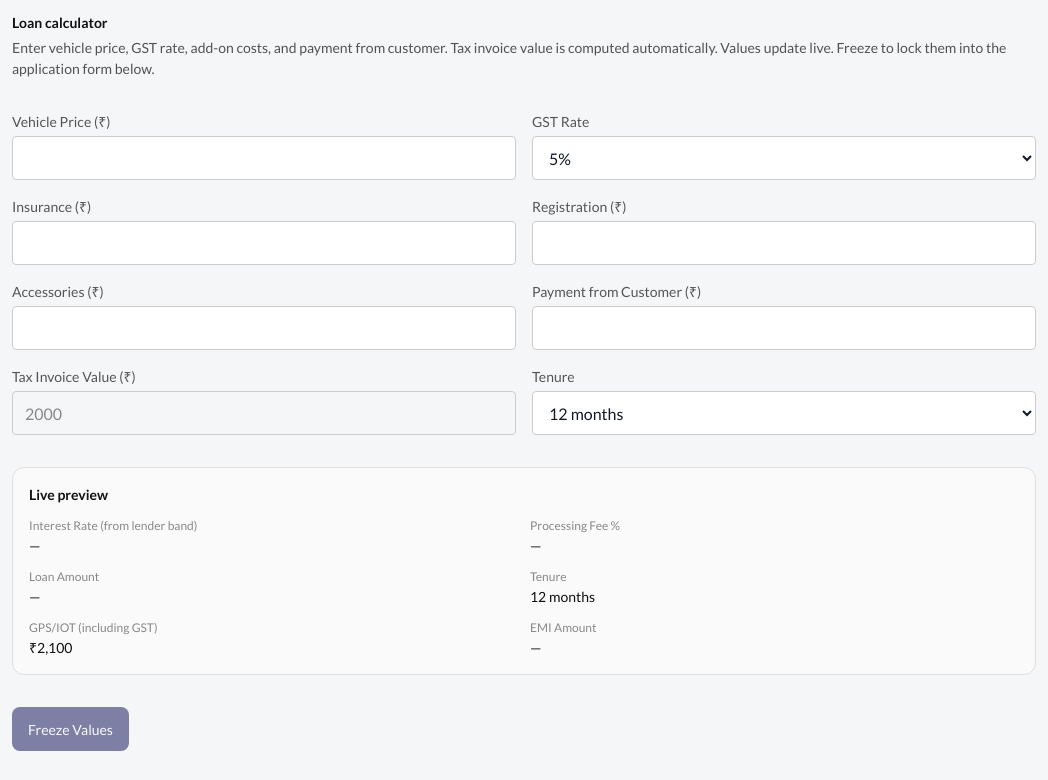
Test case: LoanCalculator › computes tax invoice value from vehicle price, GST, and add-ons
Type "100000" into the field with test id "loan-calc-vehicle-price" at (264, 158), box [12, 136, 516, 180]
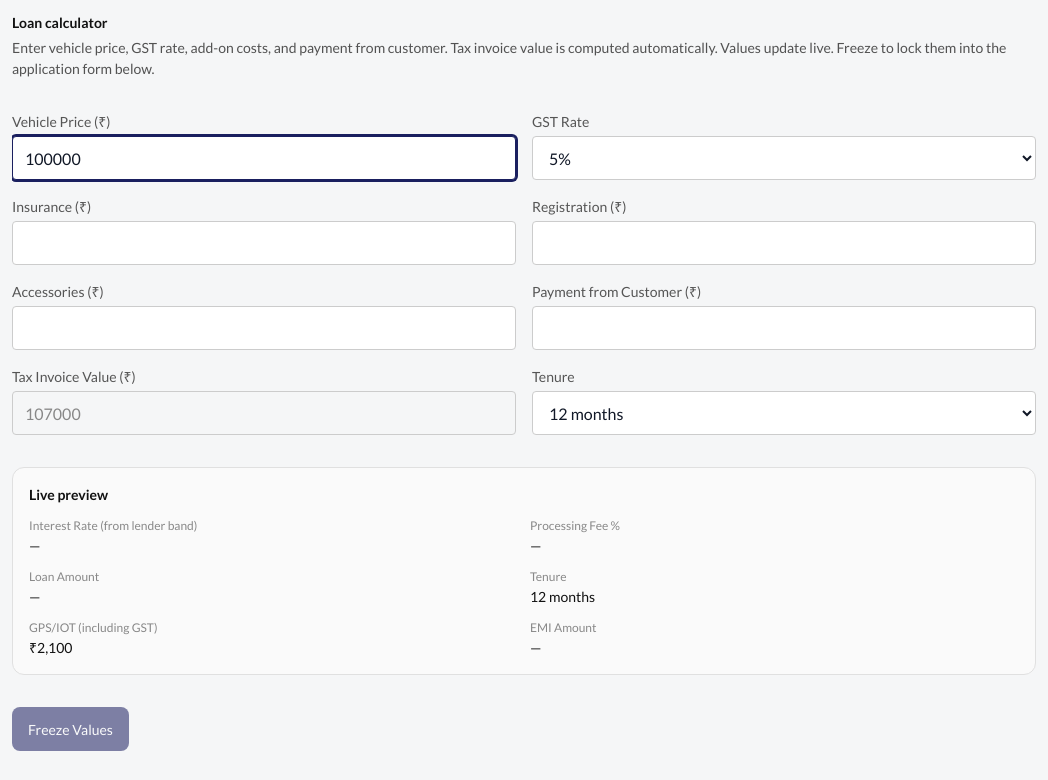
Select "5%" in the dropdown with test id "loan-calc-gst-rate" at (784, 158), box [532, 136, 1036, 180]
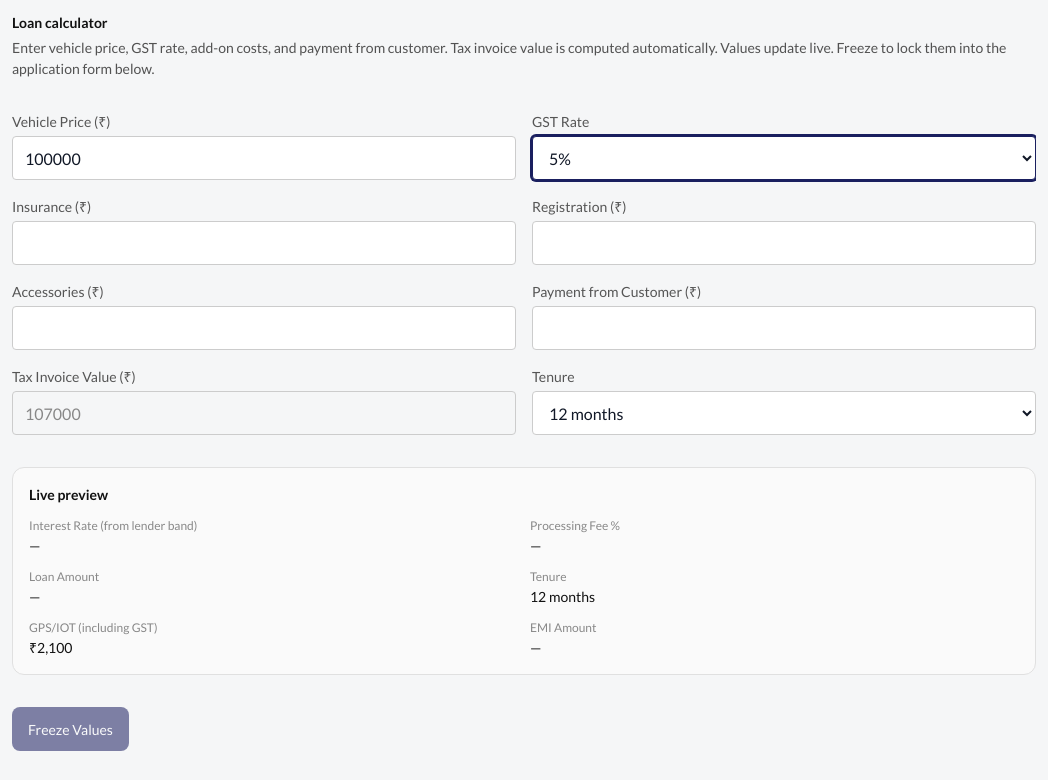
Type "2000" into the field with test id "loan-calc-insurance" at (264, 243), box [12, 221, 516, 265]
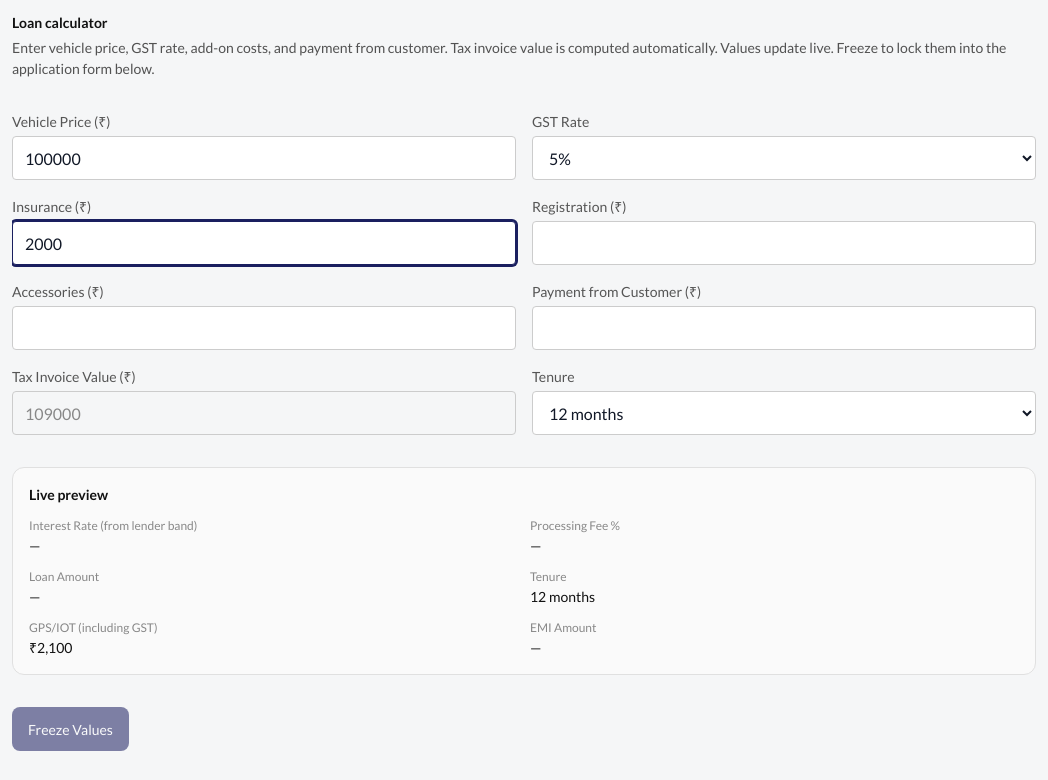
Type "1000" into the field with test id "loan-calc-registration" at (784, 243), box [532, 221, 1036, 265]
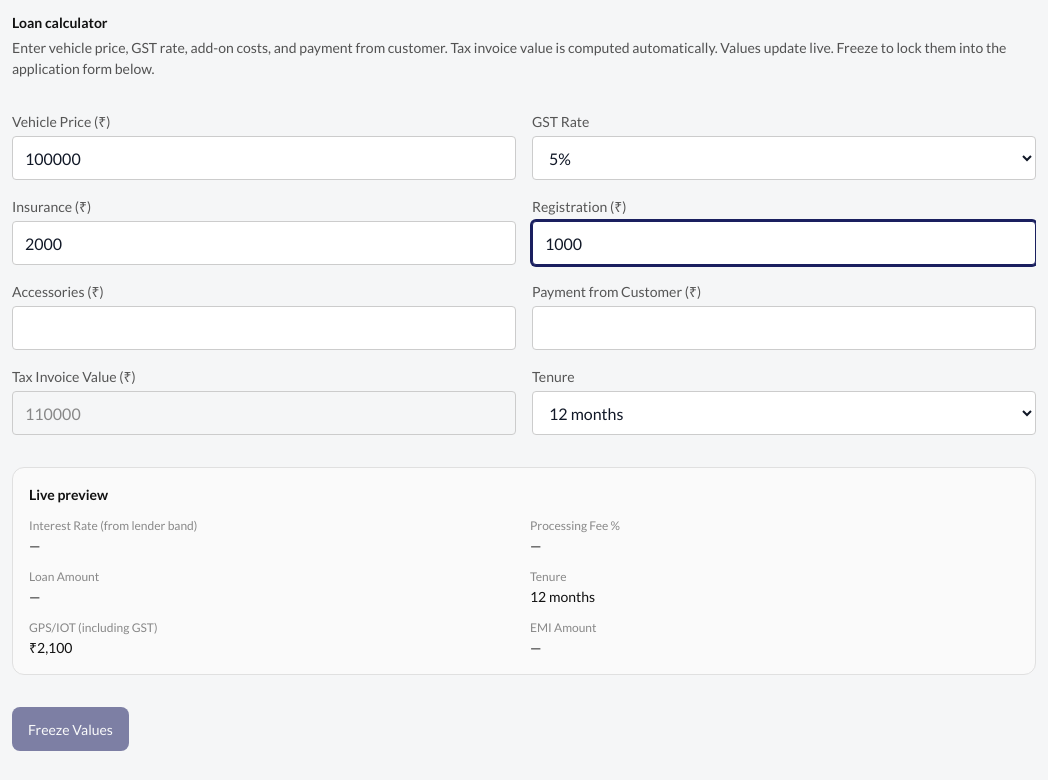
Type "1000" into the field with test id "loan-calc-accessories" at (264, 328), box [12, 306, 516, 350]
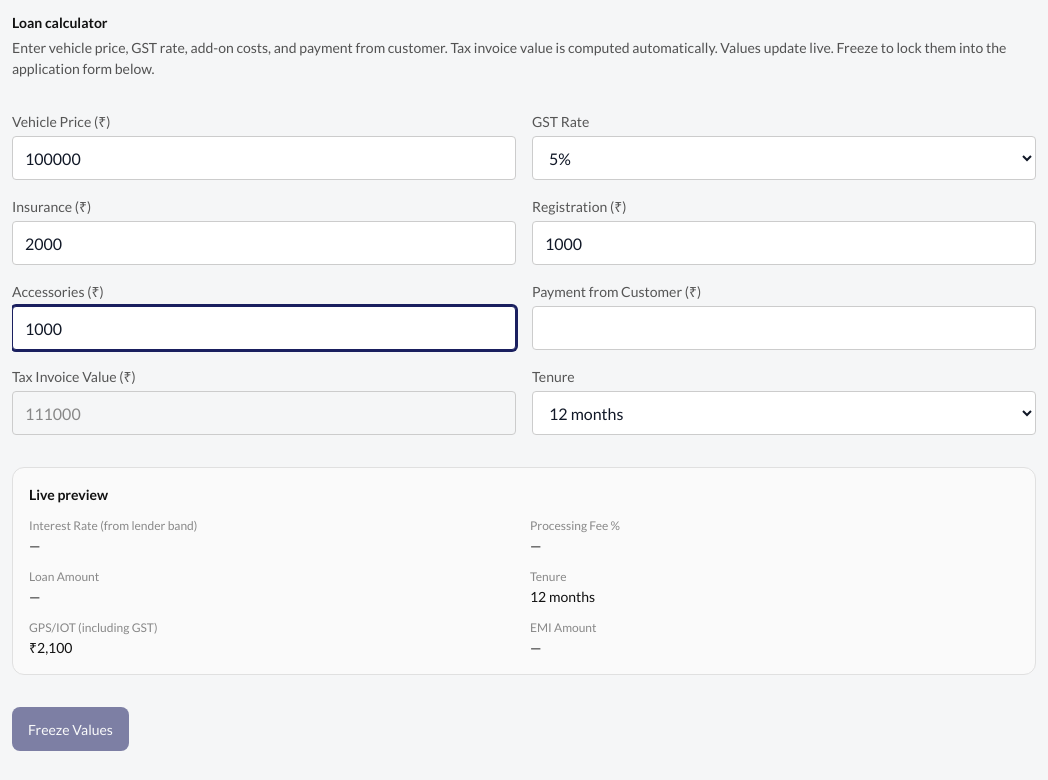
Select "18 months" in the dropdown with test id "loan-calc-tenure" at (784, 413), box [532, 391, 1036, 435]
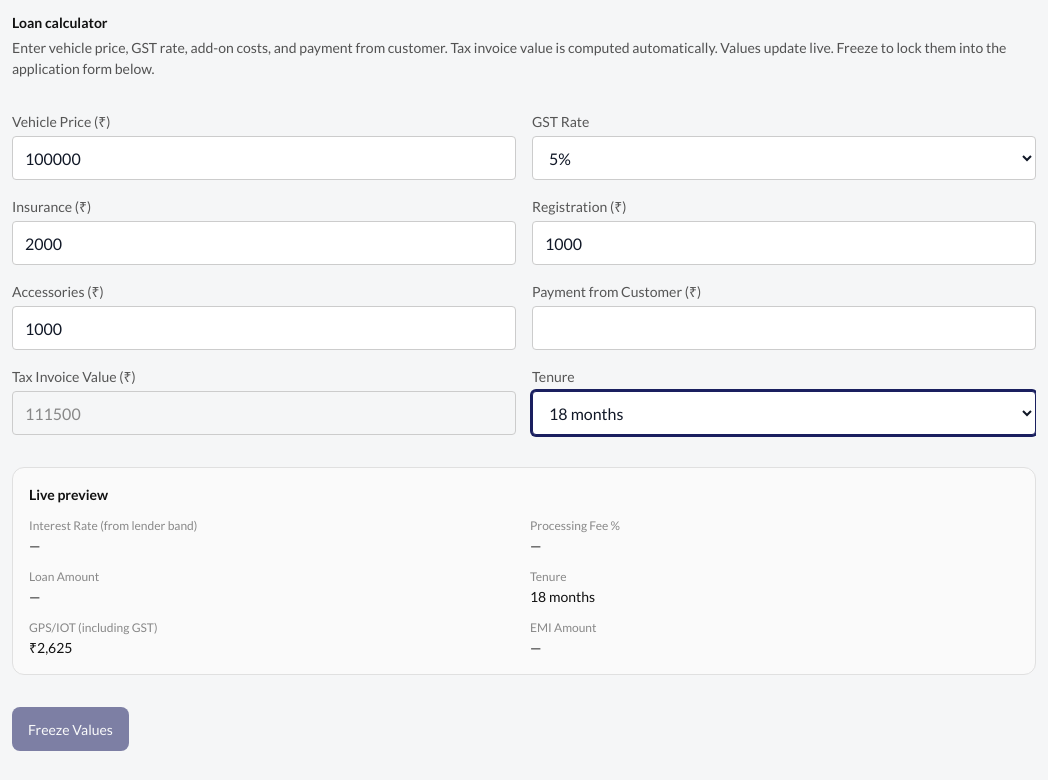
Expected: the field with test id "loan-calc-tax-invoice" holds "111500", [12, 391, 516, 435]
